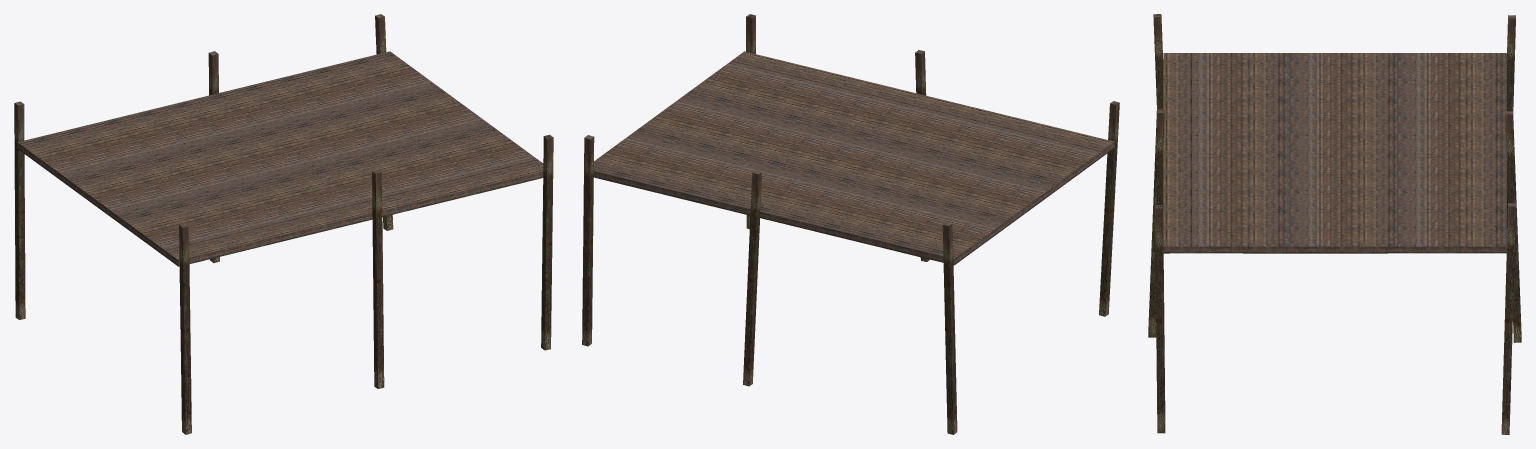
File: PBlok01.glb
3 views of the same model, side by side, from view 1: azimuth 30°, elevation 25°; view 2: azimuth 150°, elevation 25°; view 3: azimuth 270°, elevation 25° (orthographic). The views are drawn at different scales.
Visible parts, largest first — view 1: _PBlok01; view 2: _PBlok01; view 3: _PBlok01.
Boxes of the visible parts, x1=… form: _PBlok01: x1=14, y1=14, x2=553, y2=434; _PBlok01: x1=582, y1=14, x2=1119, y2=434; _PBlok01: x1=1148, y1=14, x2=1521, y2=434.
Size of the model in its own units: 16.06 by 8.96 by 13.05.
2 materials, 2 textured.
